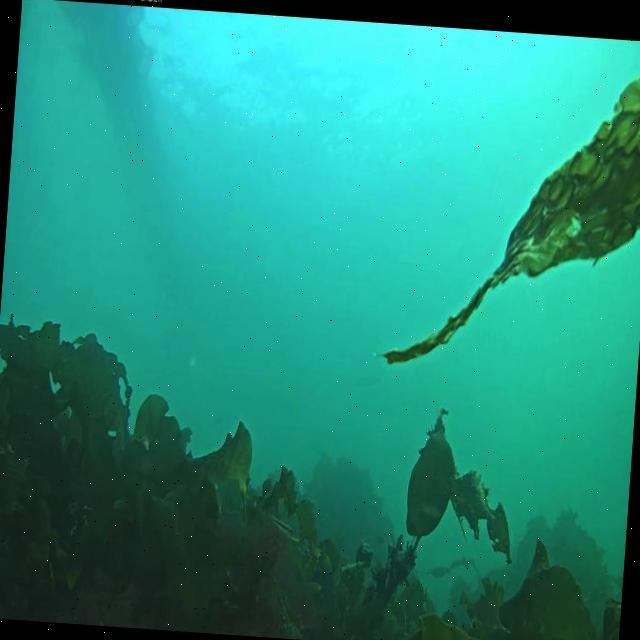fish: (268, 514, 304, 543)
